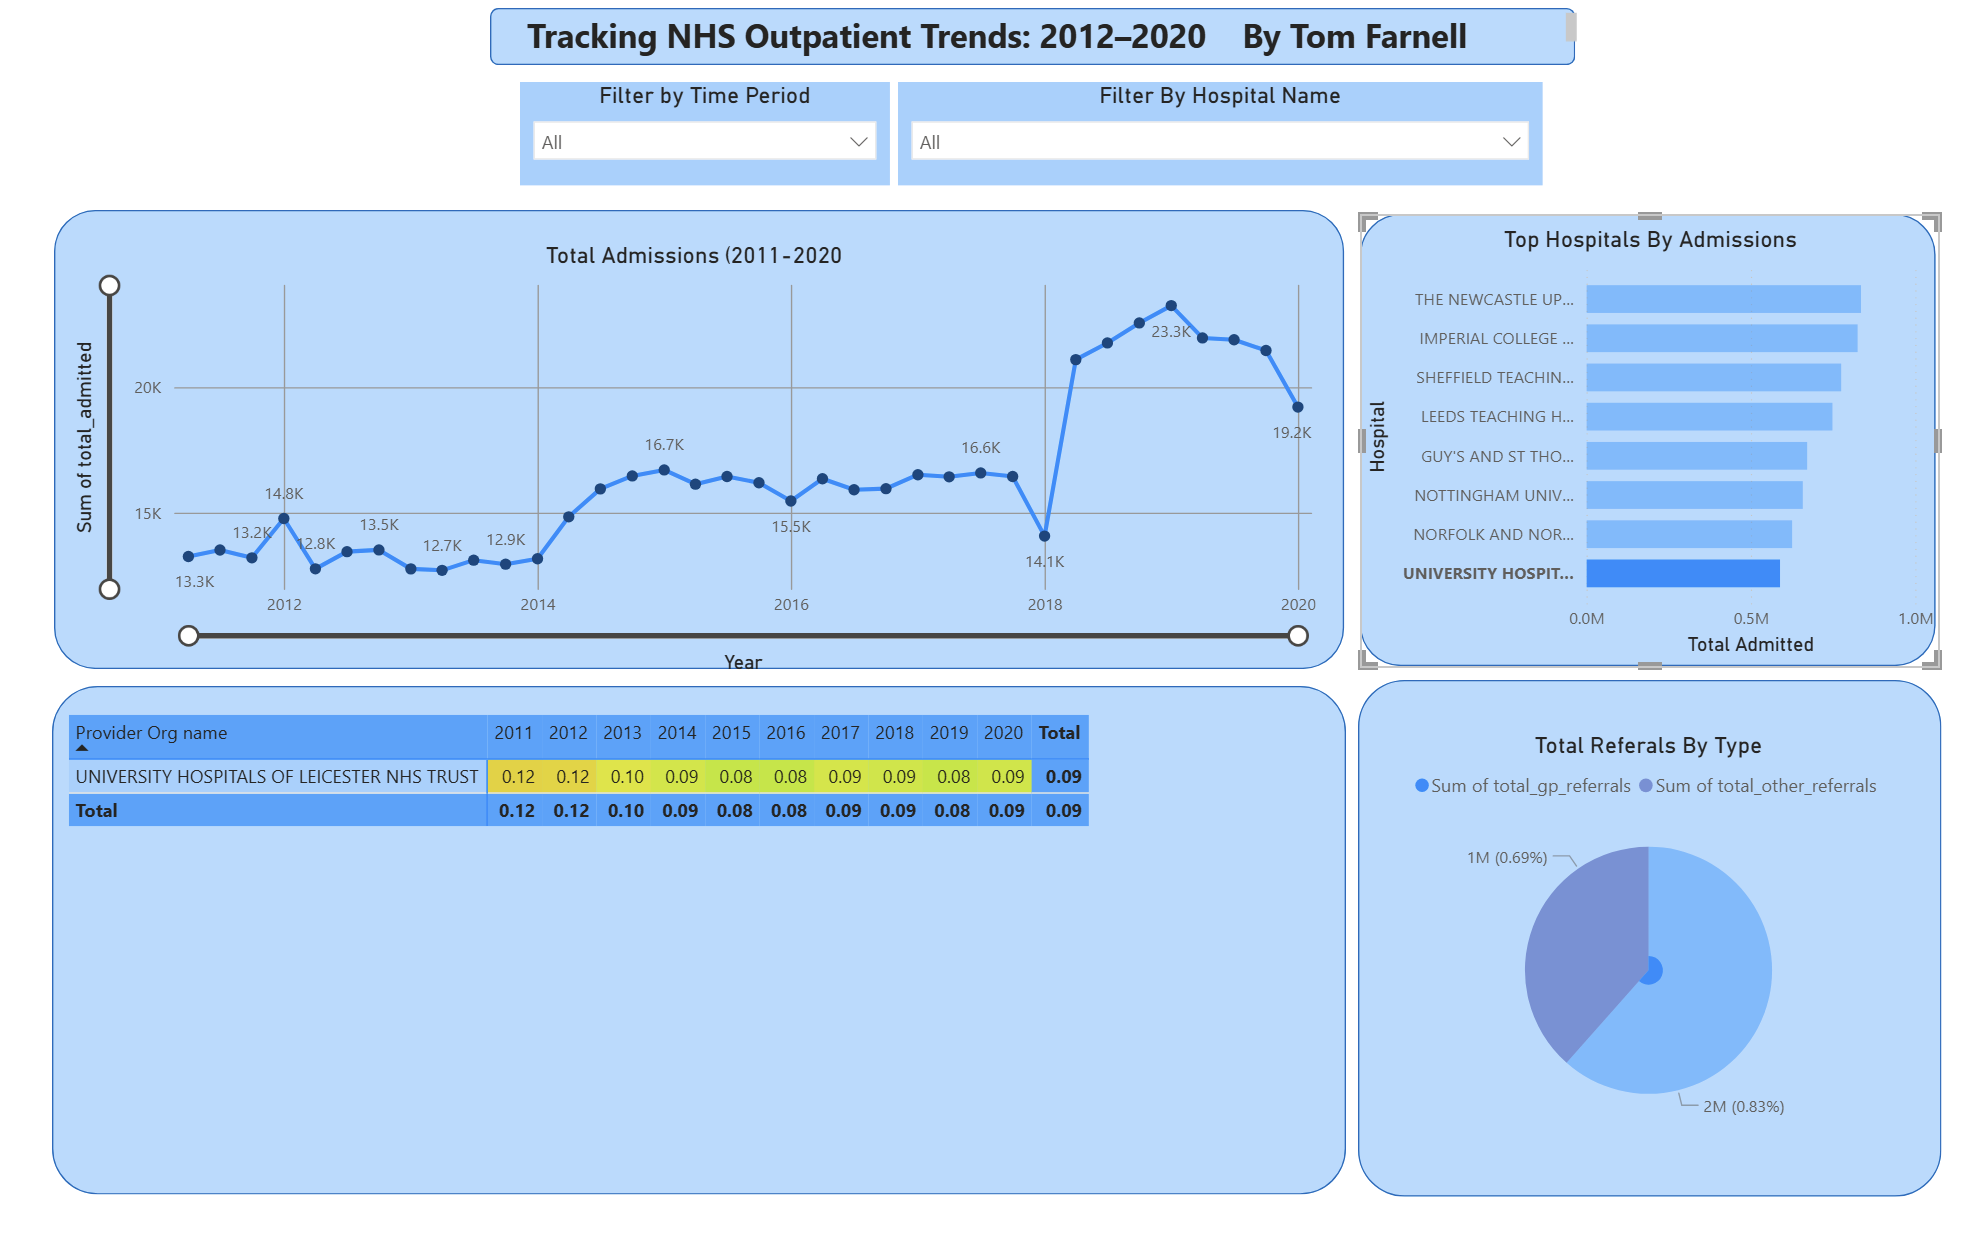

The dashboard page shown, as its layout file describes it:
{"tool":"powerbi","page":{"name":"Page 1","canvas":[1600,1200],"ordinal":0},"visuals":[{"type":"shape","box":[359.7,7.9,798,42],"z":0,"group":"g6"},{"type":"slicer","title":"Filter by Time Period","fields":{"Values":["nhs_dataset_with_quarters.Period.Variation.Date Hierarchy.Year","nhs_dataset_with_quarters.Period.Variation.Date Hierarchy.Quarter"]},"box":[381.5,61.7,272,76],"z":0,"group":"g2"},{"type":"group","id":"g1","title":"Group 2","box":[38.2,505.5,960,374.5],"z":0},{"type":"shape","box":[38.2,505.5,951.6,374],"z":0,"group":"g1"},{"type":"group","id":"g2","title":"Group 1","box":[381.5,5.7,782,132],"z":1000,"group":"g6"},{"type":"slicer","title":"Filter By Hospital Name","fields":{"Values":["nhs_dataset_with_quarters.Provider Org name"]},"box":[659.5,61.7,474,76],"z":1000,"group":"g2"},{"type":"shape","box":[999.5,159.5,423.5,332.7],"z":1000,"group":"g4"},{"type":"group","id":"g3","title":"Group 3","box":[998.2,501.8,429.1,380],"z":1000},{"type":"textbox","box":[381.5,5.7,782,48],"z":2000,"group":"g2"},{"type":"group","id":"g4","title":"Group 4","box":[999.5,159.5,427.3,332.7],"z":2000},{"type":"shape","box":[998.2,501.8,429.1,380],"z":2000,"group":"g3"},{"type":"group","id":"g5","title":"Group 5","box":[40,156.4,949.1,345.5],"z":3000},{"type":"shape","box":[40,156.4,949.1,337.7],"z":3000,"group":"g5"},{"type":"group","id":"g6","title":"Group 6","box":[359.7,5.7,803.8,132],"z":4000},{"type":"lineChart","title":"Total Admissions (2011-2020","fields":{"Y":["Sum(nhs_dataset_with_quarters.total_admitted)"],"Category":["nhs_dataset_with_quarters.Period.Variation.Date Hierarchy.Year","nhs_dataset_with_quarters.Period.Variation.Date Hierarchy.Quarter"]},"box":[49.3,180.5,923.8,321.3],"z":4000,"group":"g5"},{"type":"barChart","title":"Top Hospitals By Admissions","fields":{"Category":["nhs_dataset_with_quarters.Provider Org name"],"Y":["Sum(nhs_dataset_with_quarters.total_admitted)"]},"box":[999.5,168.6,427.3,320.3],"z":5000,"group":"g4"},{"type":"pivotTable","fields":{"Rows":["nhs_dataset_with_quarters.Provider Org name"],"Columns":["nhs_dataset_with_quarters.Period.Variation.Date Hierarchy.Year","nhs_dataset_with_quarters.Period.Variation.Date Hierarchy.Quarter"],"Values":["nhs_dataset_with_quarters.First DNA Rate"]},"box":[46.2,521.5,951.6,344],"z":6000,"group":"g1"},{"type":"pieChart","title":"Total Referals By Type","fields":{"Y":["Sum(nhs_dataset_with_quarters.total_gp_referrals)","Sum(nhs_dataset_with_quarters.total_other_referrals)"]},"box":[1017.9,540.3,389.1,301.8],"z":7000,"group":"g3"}]}

Visuals, with their boxes on the page's 1600x1200 design canvas (x1, y1, x2, y2). These are canvas units, not pixel positions in the 1976x1246 screenshot, which may show the page scaled, cropped or inside an application window:
shape: 360/8/1158/50
"Filter by Time Period" slicer: 382/62/654/138
"Group 2" group: 38/506/998/880
shape: 38/506/990/880
"Group 1" group: 382/6/1164/138
"Filter By Hospital Name" slicer: 660/62/1134/138
shape: 1000/160/1423/492
"Group 3" group: 998/502/1427/882
textbox: 382/6/1164/54
"Group 4" group: 1000/160/1427/492
shape: 998/502/1427/882
"Group 5" group: 40/156/989/502
shape: 40/156/989/494
"Group 6" group: 360/6/1164/138
"Total Admissions (2011-2020" lineChart: 49/180/973/502
"Top Hospitals By Admissions" barChart: 1000/169/1427/489
pivotTable - nhs_dataset_with_quarters.Provider Org name x nhs_dataset_with_quarters.Period.Variation.Date Hierarchy.Year: 46/522/998/866
"Total Referals By Type" pieChart: 1018/540/1407/842
